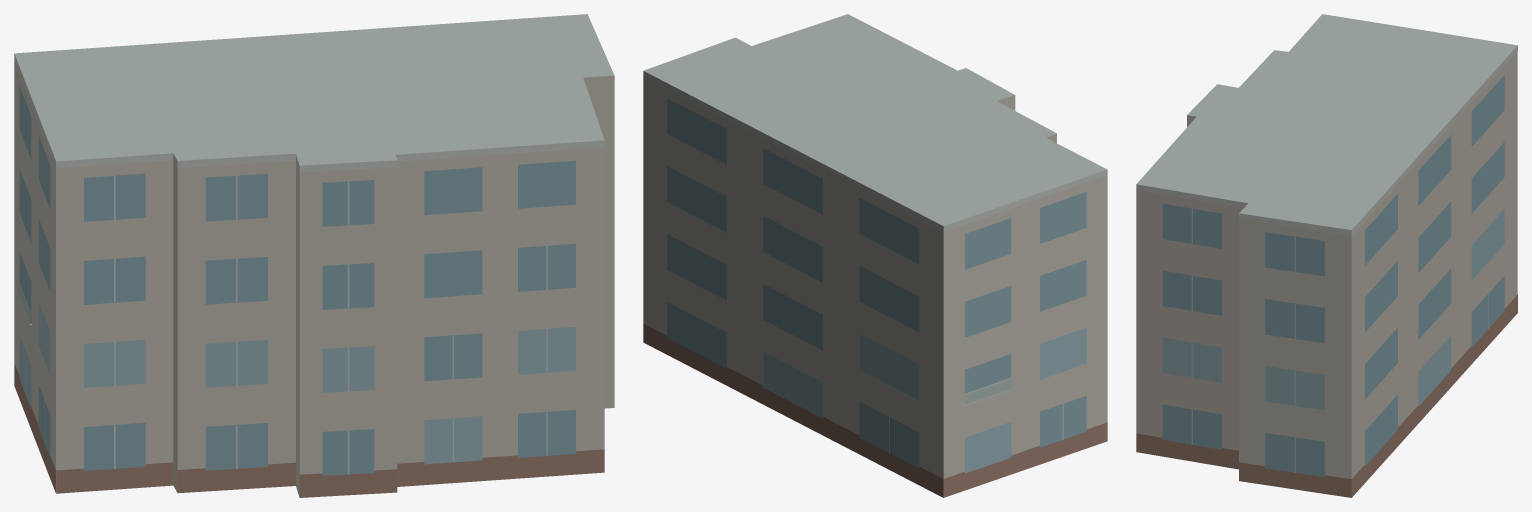
The model's file is survey-upis-32880912.glb.
3 renders of one model, left to right at view 1: azimuth 30°, elevation 25°; view 2: azimuth 150°, elevation 25°; view 3: azimuth 270°, elevation 25°, orthographic. The views are drawn at different scales.
Visible parts, largest first — view 1: survey-upis-32880912.tmp; view 2: survey-upis-32880912.tmp; view 3: survey-upis-32880912.tmp.
Boxes of the visible parts, left/top/right/bottom form: survey-upis-32880912.tmp: left=14, top=14, right=614, bottom=497; survey-upis-32880912.tmp: left=643, top=14, right=1107, bottom=497; survey-upis-32880912.tmp: left=1136, top=14, right=1517, bottom=497.
Size of the model in its own units: 20.1 by 11.6 by 14.99.
